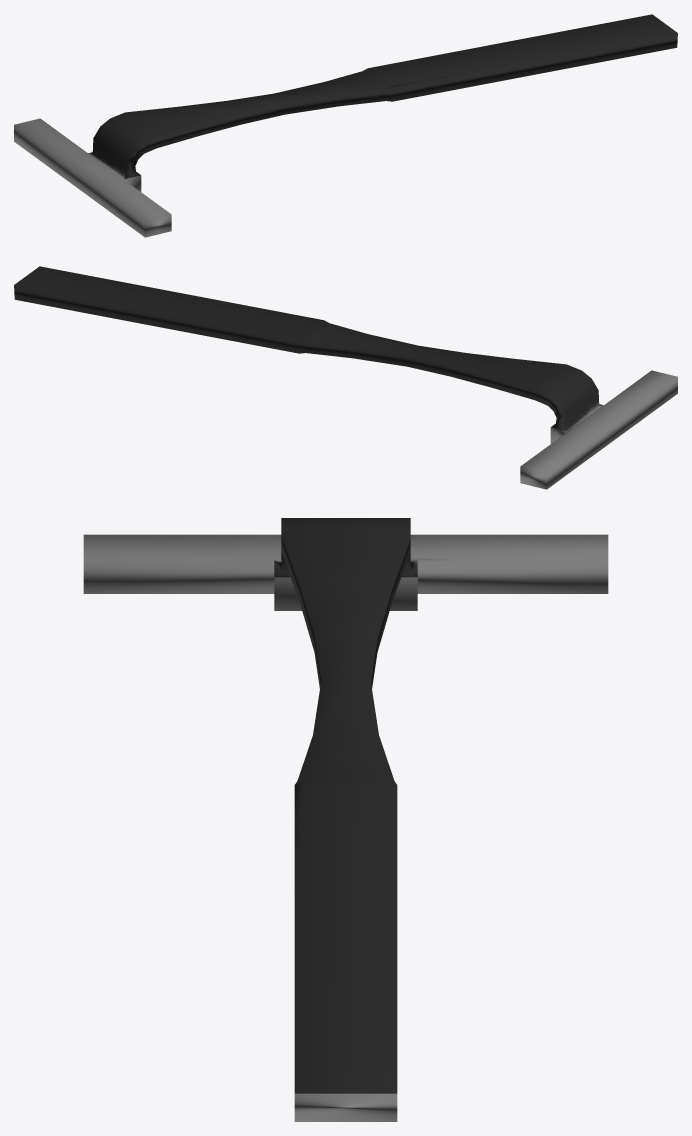
File: shaver.fbx
3 views of the same model, one above another, from view 1: azimuth 30°, elevation 25°; view 2: azimuth 150°, elevation 25°; view 3: azimuth 270°, elevation 25° (orthographic). The views are drawn at different scales.
Parts seen in each view (by area): view 1: shaver; view 2: shaver; view 3: shaver.
Part boxes in pixels (<box>): shaver: <box>14,14,677,237</box>; shaver: <box>14,266,677,489</box>; shaver: <box>83,518,608,1121</box>.
Bounding box in the file's own units: 18.82 × 1.54 × 7.3.
